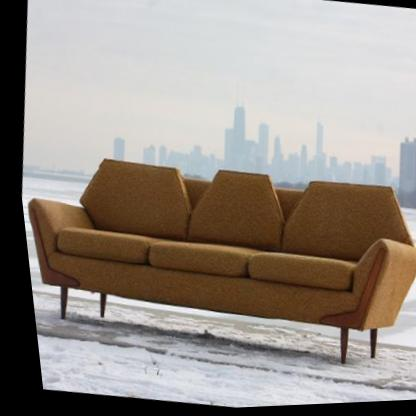Sofa: (13, 137, 416, 388)
